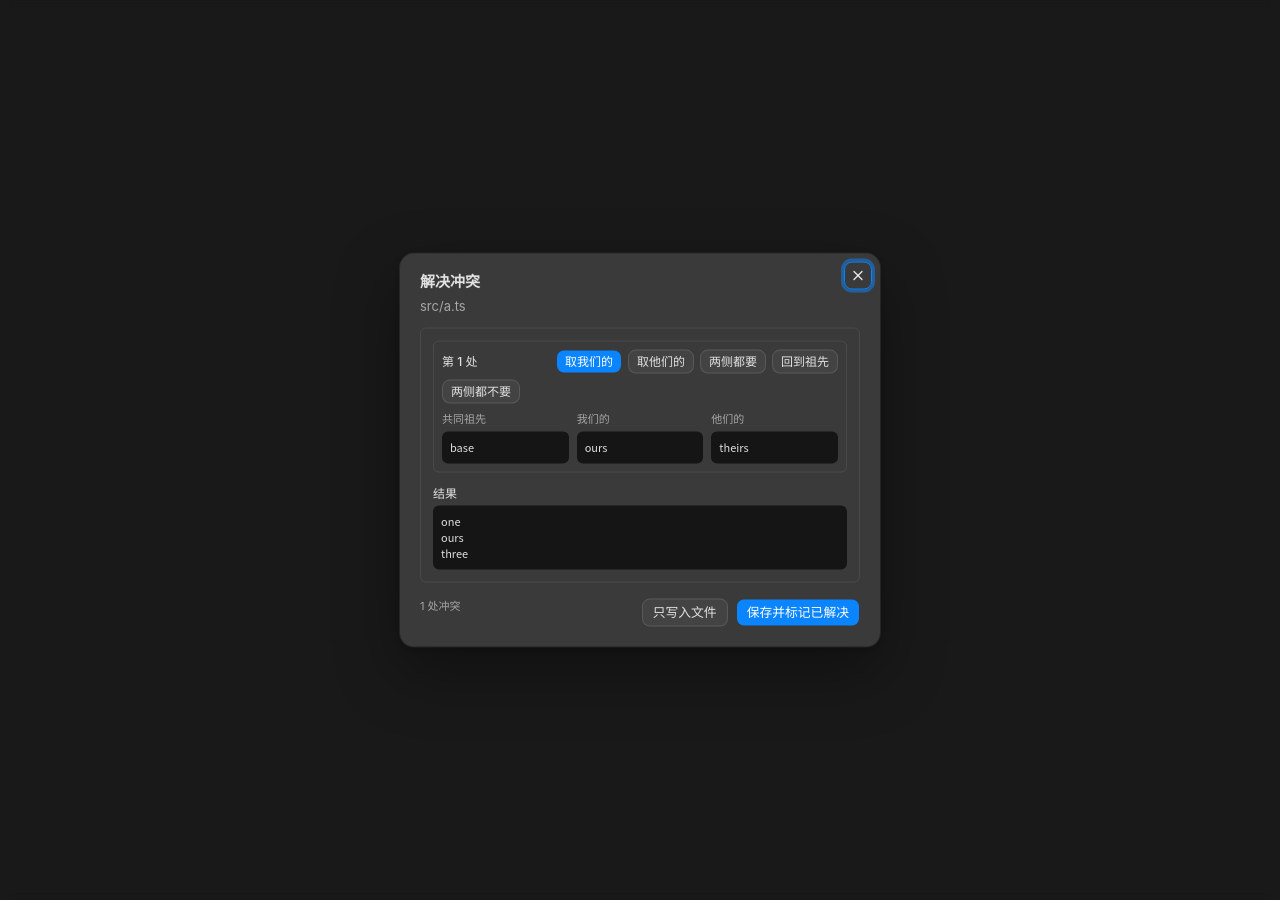
it: MergeDialog › takes the three sides from the index and lets one hunk pick a side
Expected: the text "第 1 处" is shown, x1=442 y1=353 x2=477 y2=370
Expected: the text "base" is shown, x1=442 y1=431 x2=569 y2=463
Click the button "取他们的" at point(661, 361), box x1=628 y1=349 x2=694 y2=373
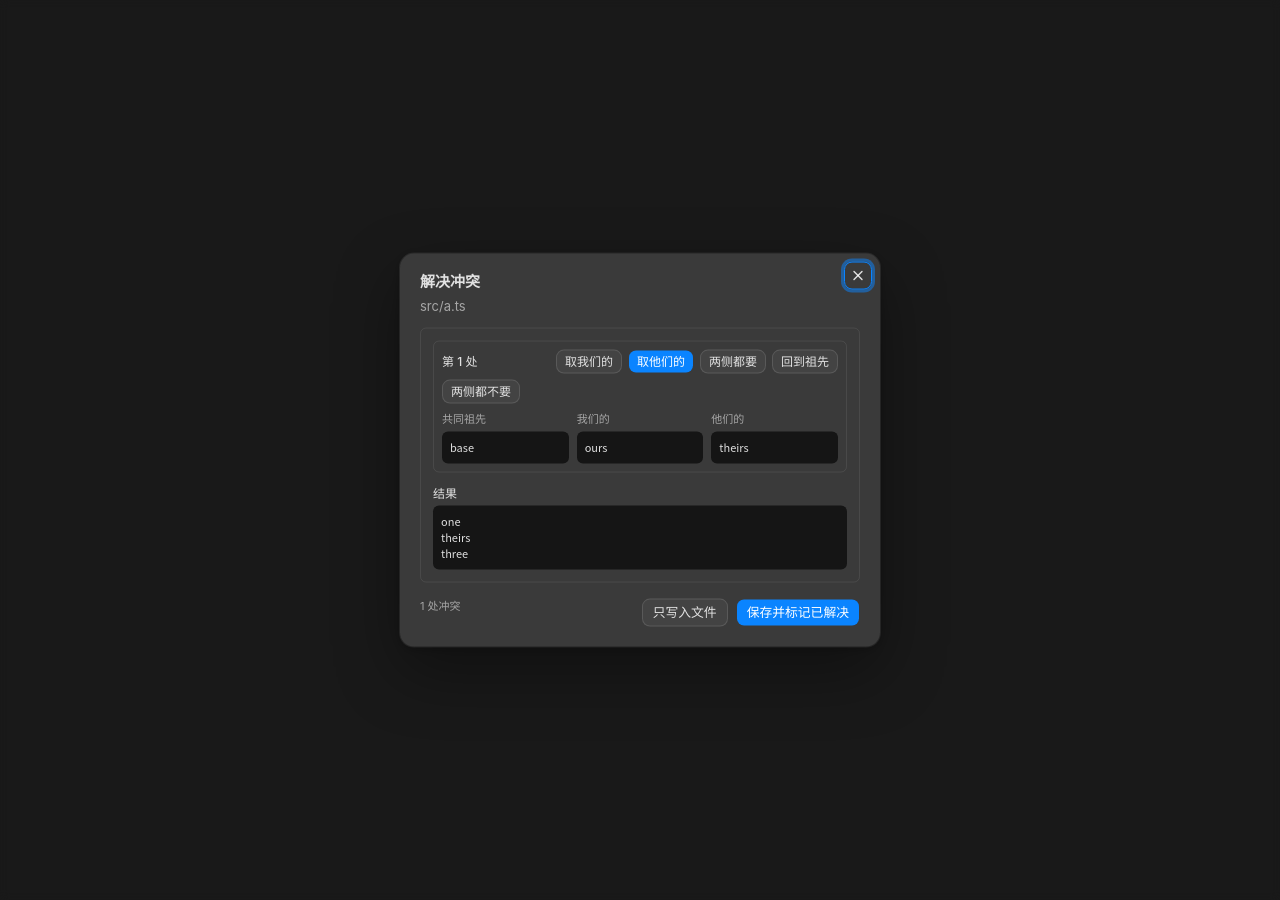
Click the button "保存并标记已解决" at point(798, 612), box x1=736 y1=598 x2=860 y2=626
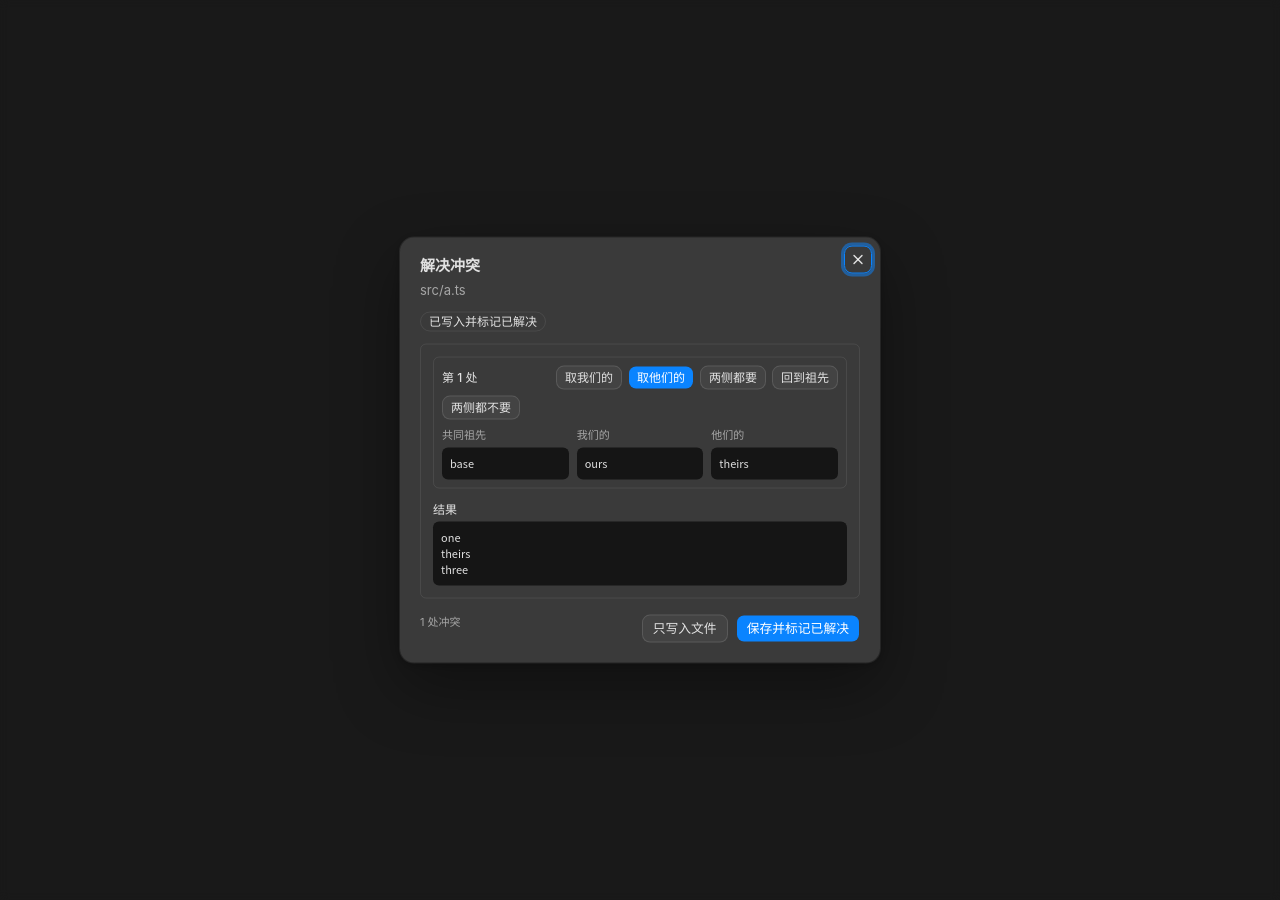
Expected: the text "src/a.ts" is shown, x1=420 y1=282 x2=466 y2=298
Expected: the text "已写入并标记已解决" is shown, x1=420 y1=311 x2=546 y2=331
